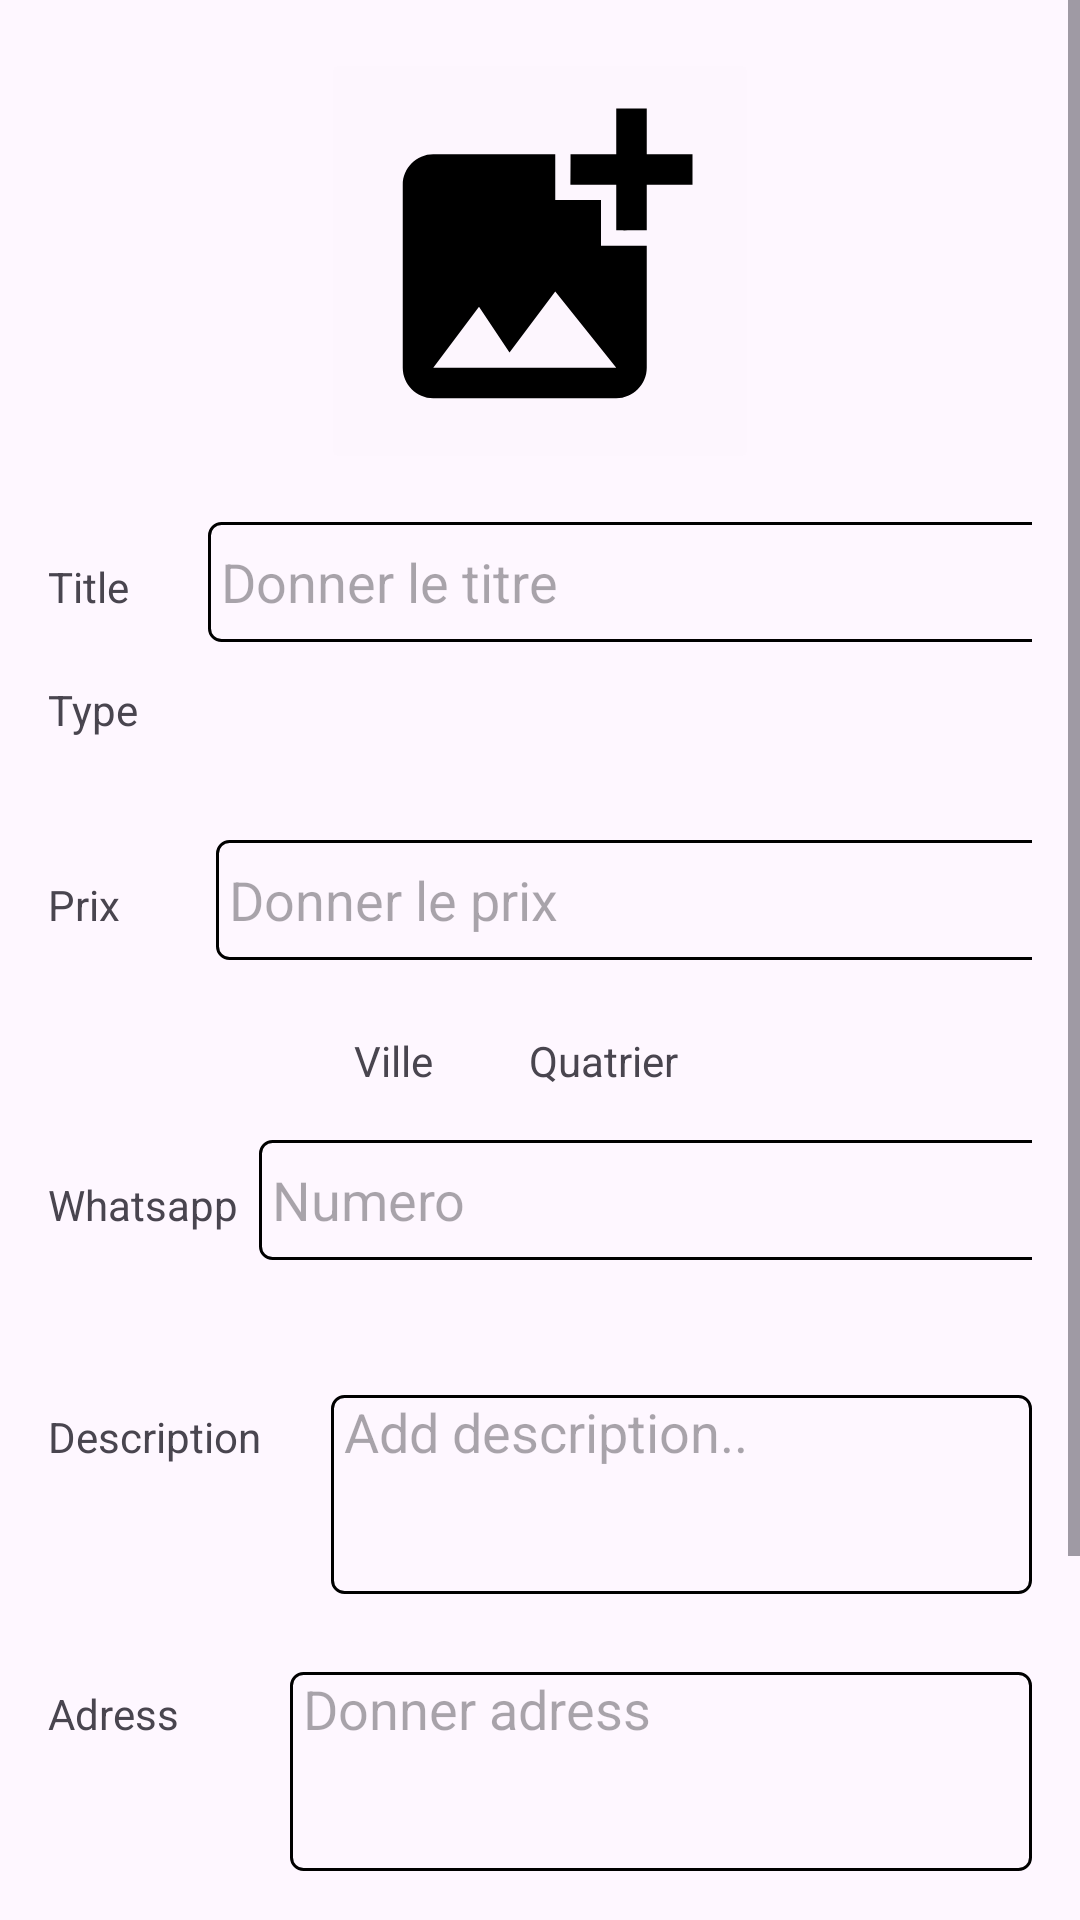

Named icons in this screenshot (1080 × 1920) and their centers, (x,y):
add photo alternate: (547,253)
